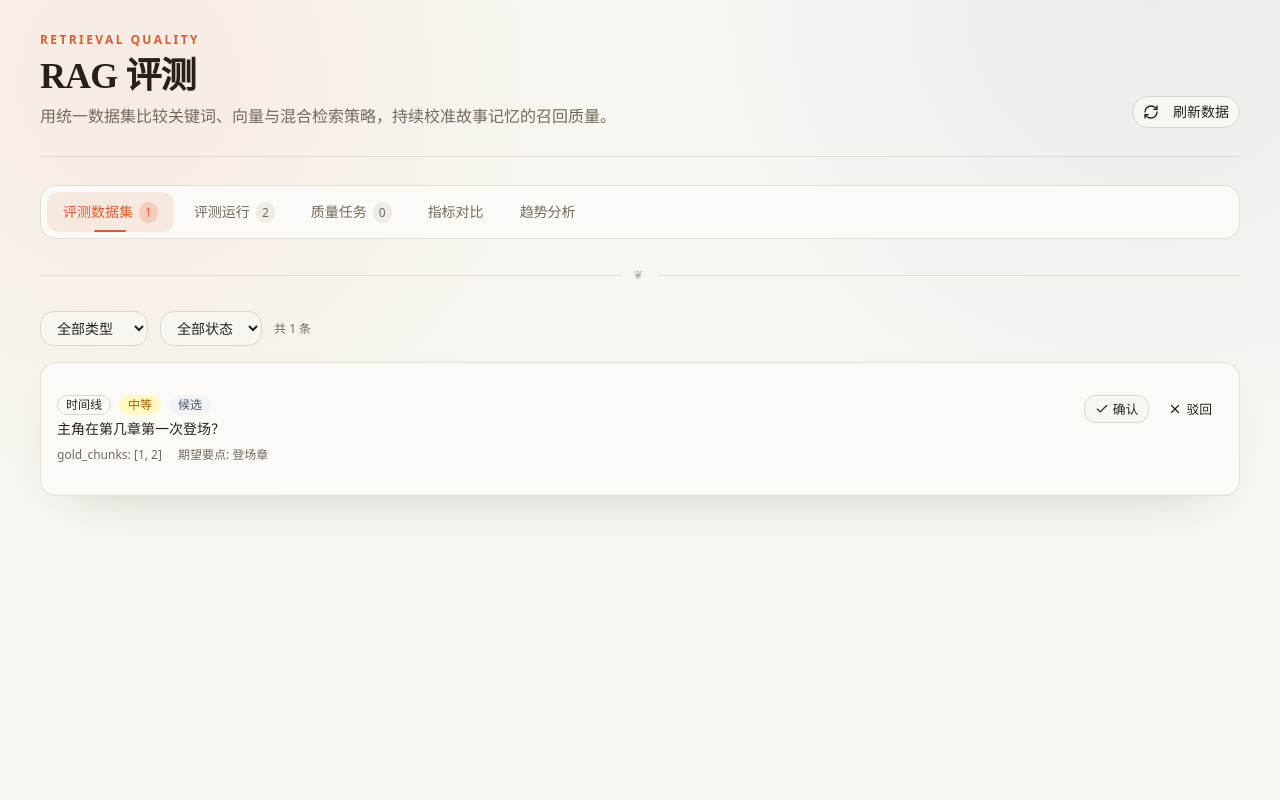
it: EvalPage main › 切到指标对比与趋势页
Check: the heading "RAG 评测" is shown, box [40,56,196,96]
Click the button "指标对比". click: (456, 212)
box: [412,192,500,232]
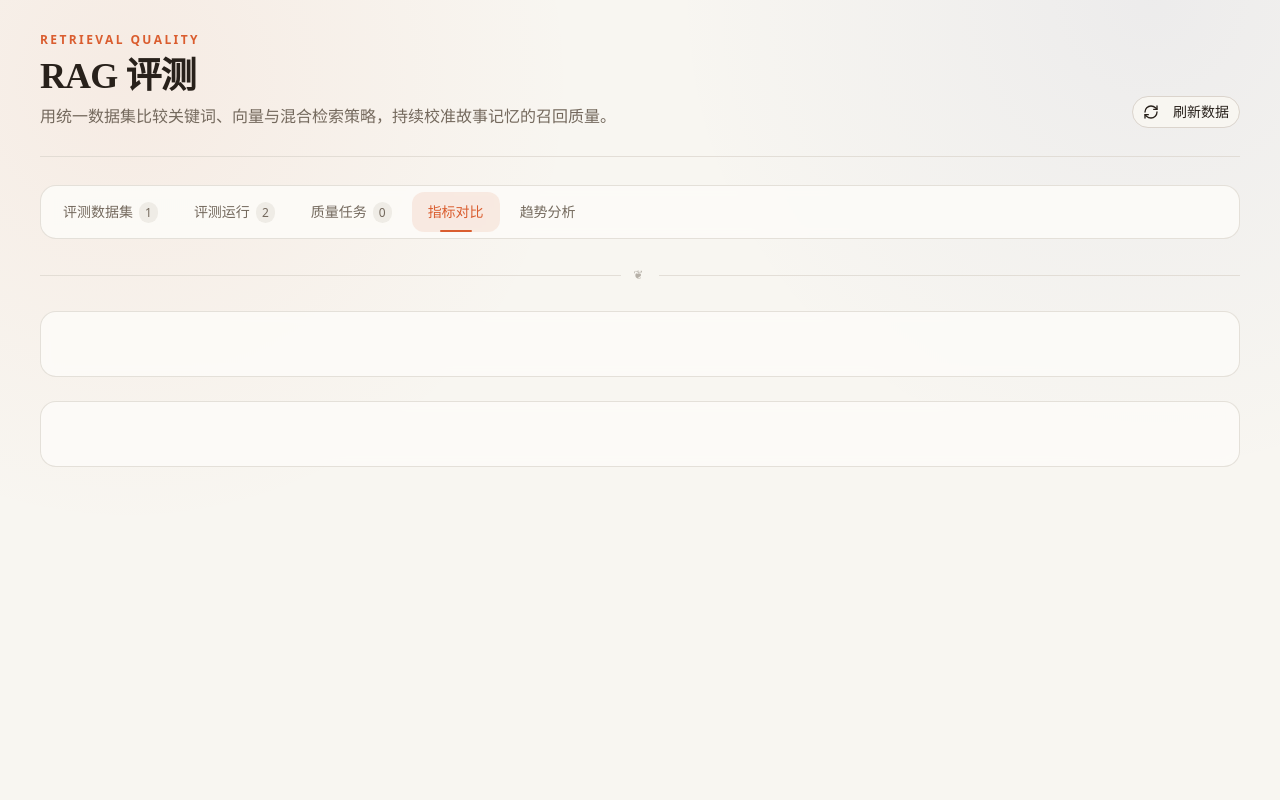
Click the button "趋势分析". click: (548, 212)
box: [504,192,592,232]
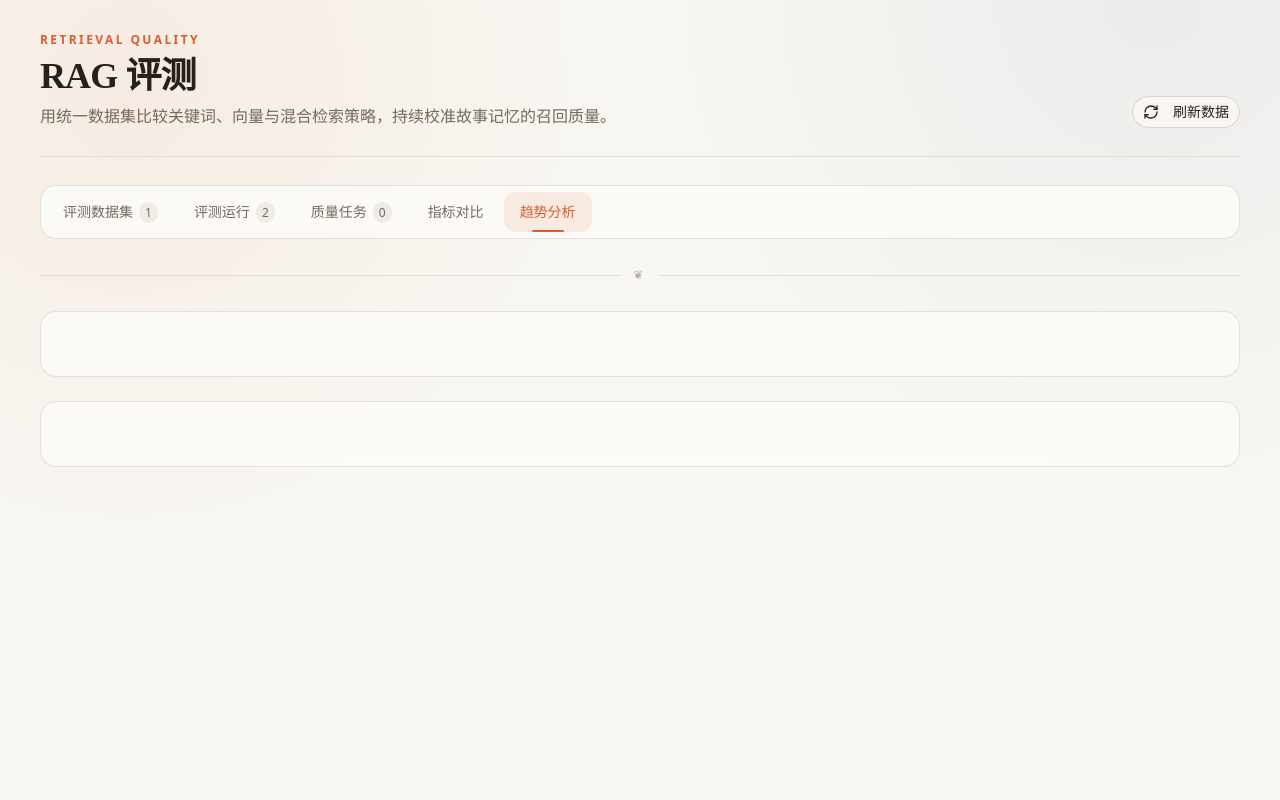
Click the button "质量任务0". click: (351, 212)
box: [295,192,408,232]
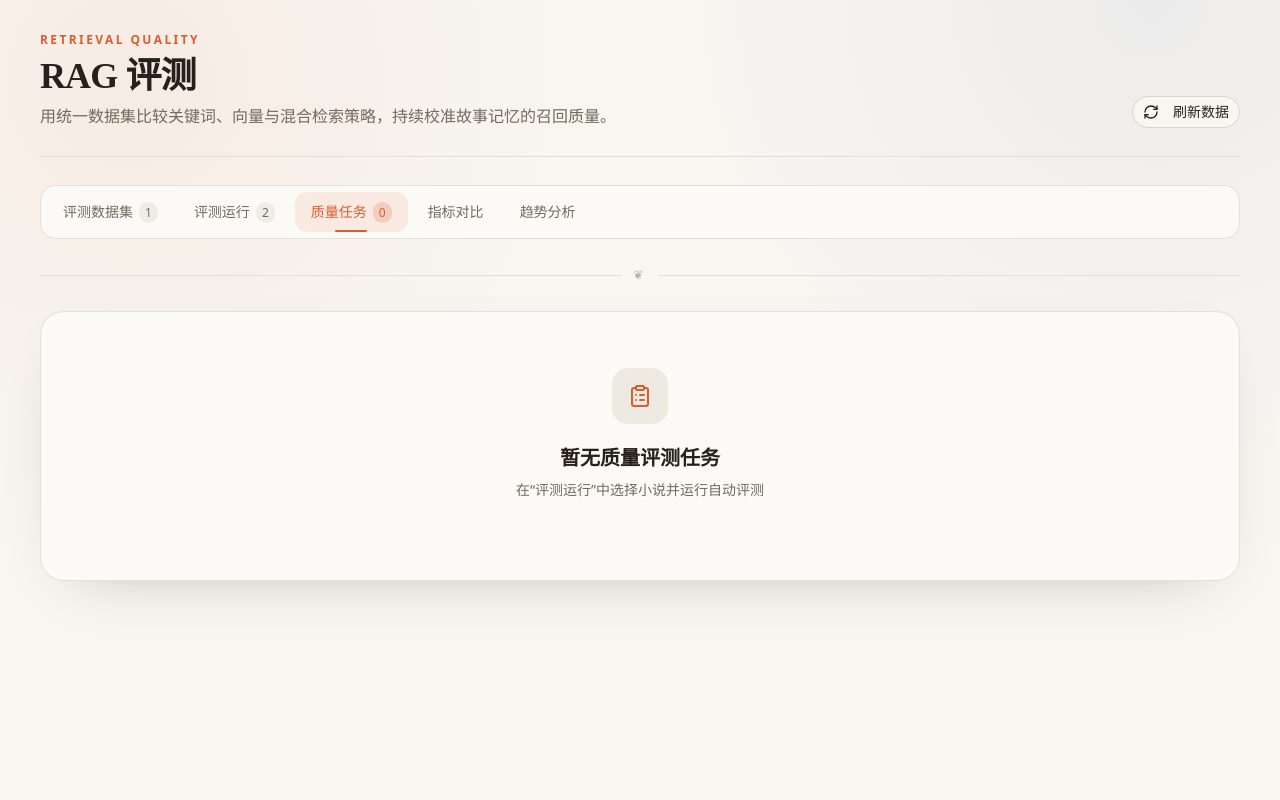
Check: the heading "暂无质量评测任务" is shown, box [560,444,720,472]
